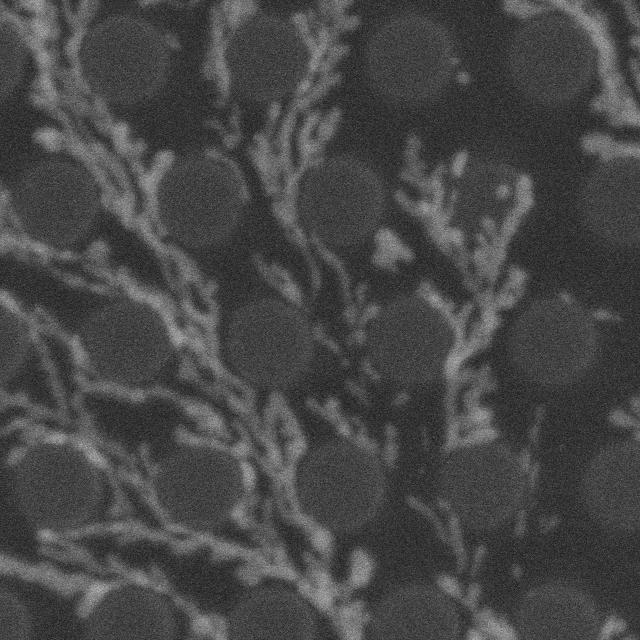Dendrite: (18, 0, 379, 640), (395, 138, 532, 449), (248, 0, 356, 296), (240, 0, 359, 260), (504, 0, 640, 173), (0, 188, 173, 304), (0, 552, 226, 640), (0, 290, 146, 412), (0, 404, 127, 514), (459, 408, 546, 539), (40, 520, 243, 561), (201, 0, 258, 146), (410, 500, 484, 605), (309, 236, 376, 346), (307, 397, 398, 470), (39, 526, 151, 585), (0, 390, 70, 434), (255, 257, 303, 305), (371, 227, 414, 272), (345, 356, 390, 397), (310, 322, 346, 358), (386, 388, 418, 414), (89, 398, 118, 400), (474, 423, 475, 424)
